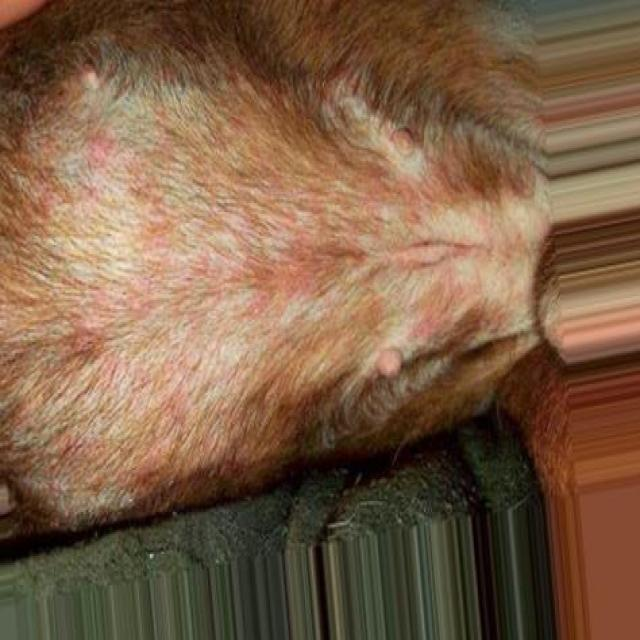di ung bo chet: (0, 33, 501, 447)
